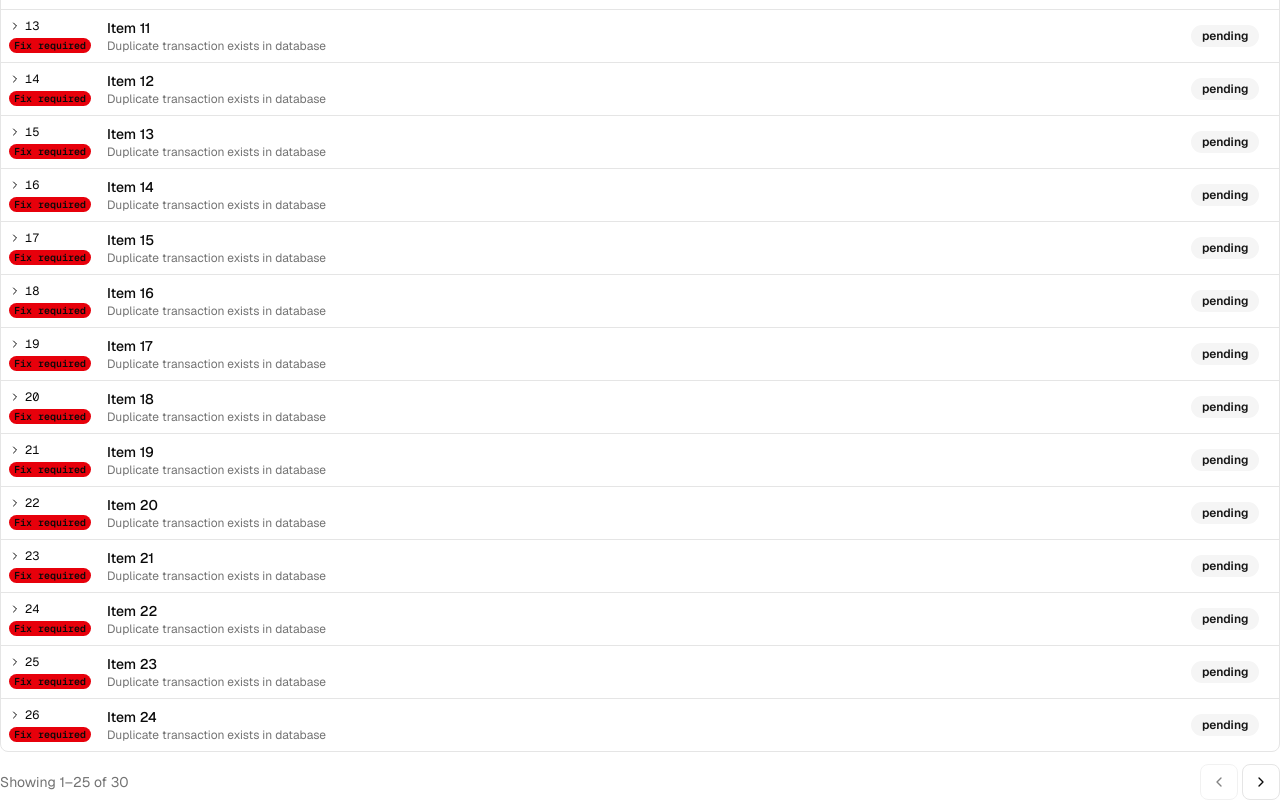
Test: FailedTransactionsGrid › pagination › navigates back to previous page
(page scrolled)
Click the button named "Next page": (1261, 782) [1242,764,1279,799]
(page scrolled)
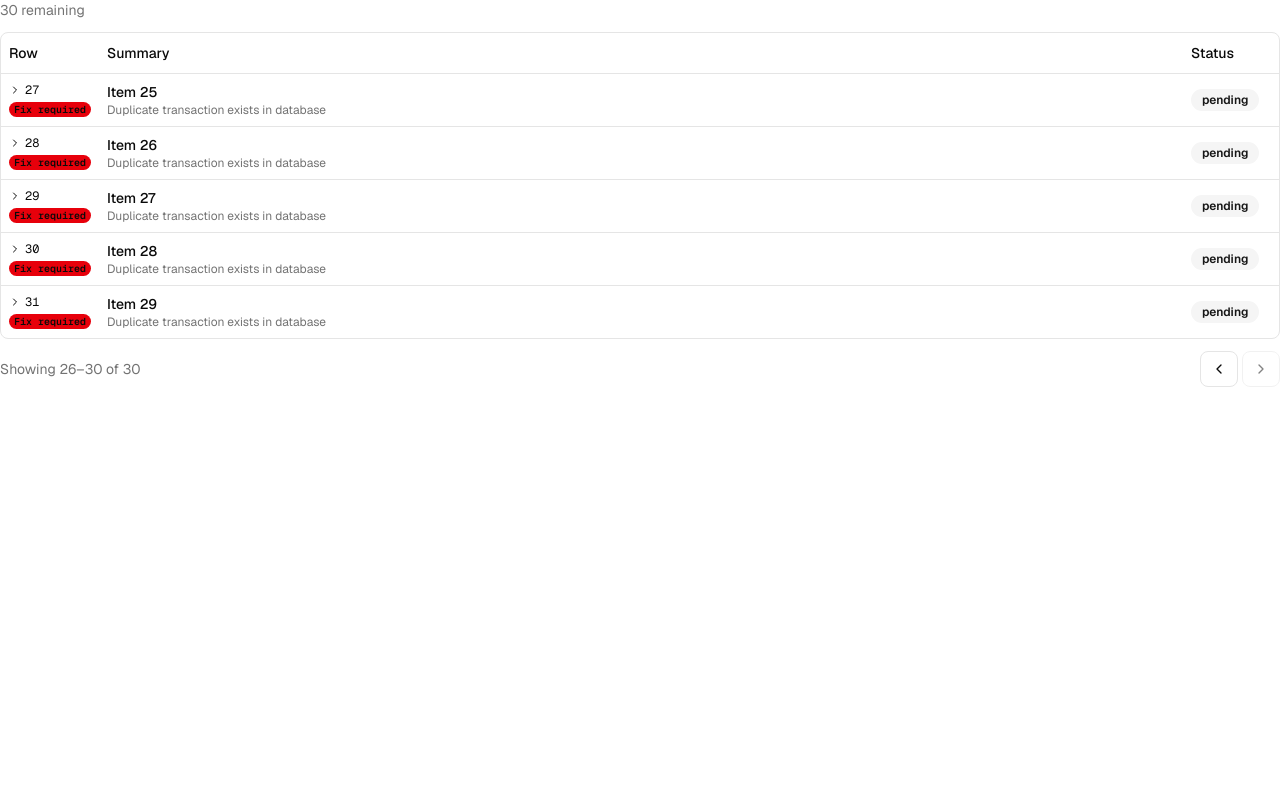
Expected: the text "Showing 26–30 of 30" is shown, [0,358,140,378]
Click the button named "Previous page": (1219, 368) [1200,350,1238,386]
(page scrolled)
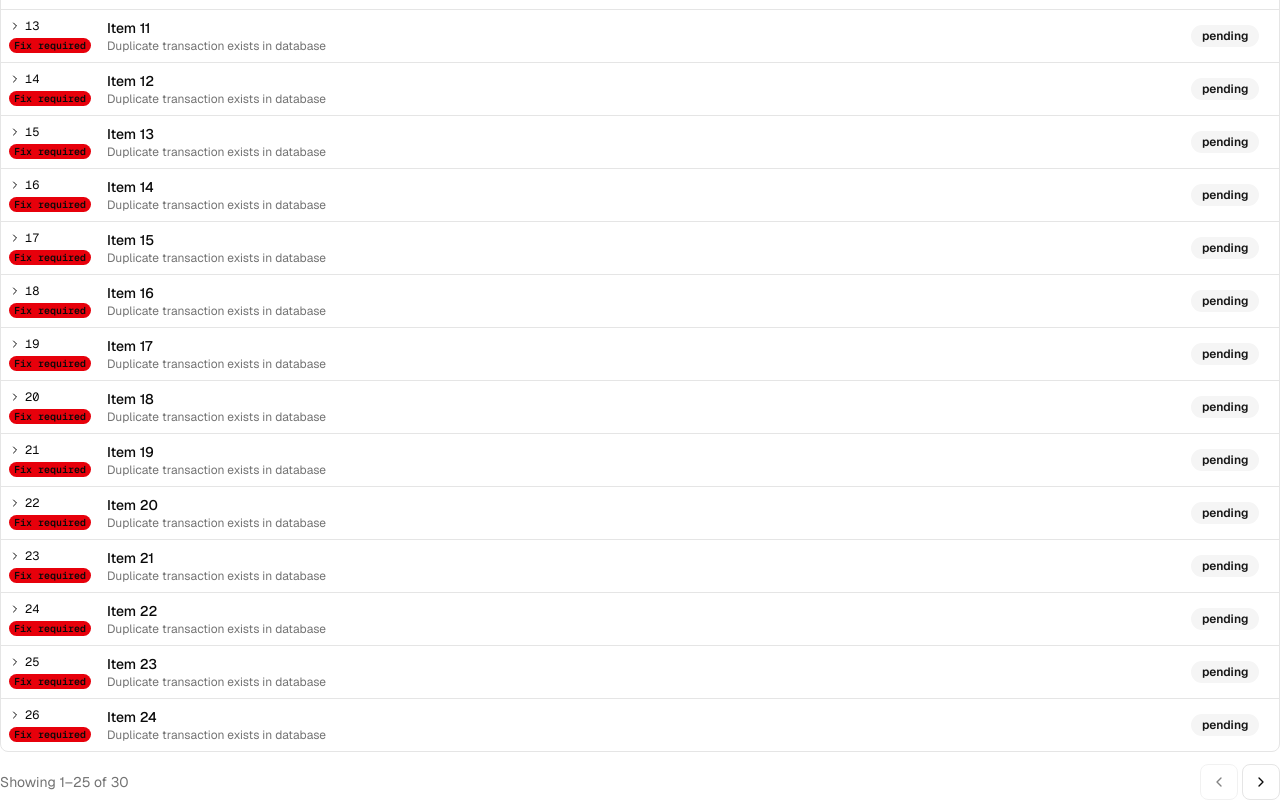
Expected: the text "Showing 1–25 of 30" is shown, [0,772,128,792]
